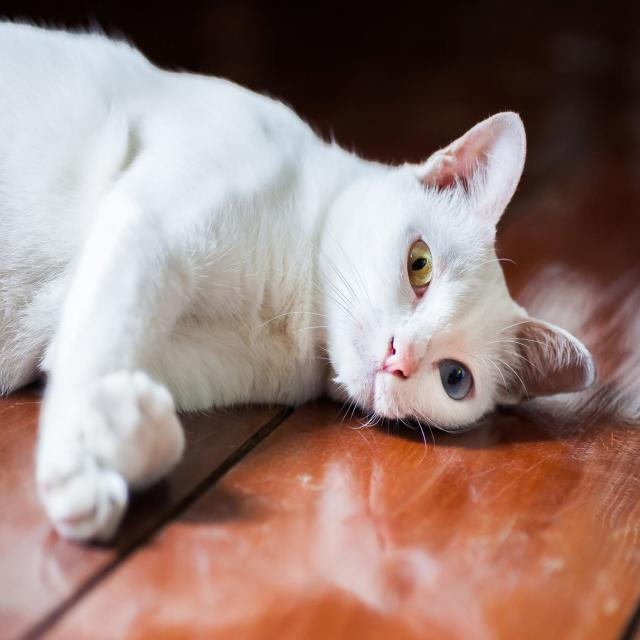Khao Manee: (0, 15, 600, 548)
